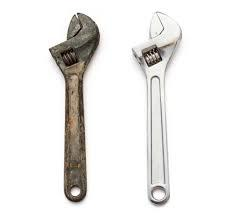wrench: (46, 10, 101, 203), (129, 9, 182, 206)
